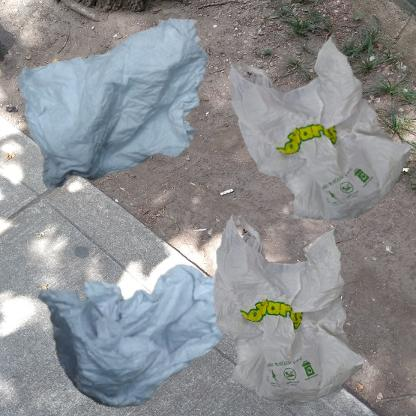bolsa: (213, 10, 416, 278), (213, 213, 365, 406)
papel: (10, 213, 265, 416), (10, 10, 246, 206)
